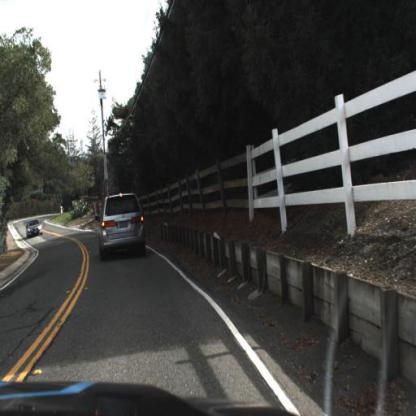car: (100, 193, 151, 263), (23, 217, 44, 242)
